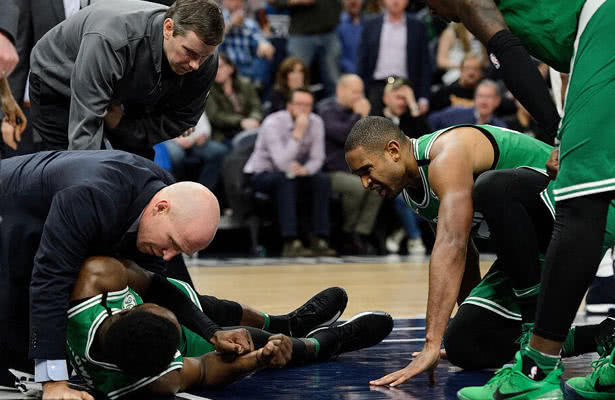10+: (1, 3, 615, 400)
down: (50, 240, 414, 399)
